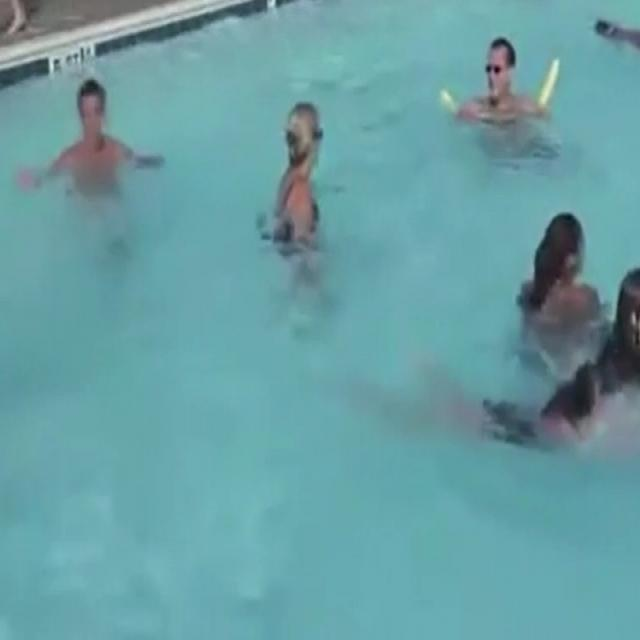swimming: (463, 196, 640, 465), (234, 90, 373, 312), (421, 17, 576, 175), (12, 75, 173, 223)
